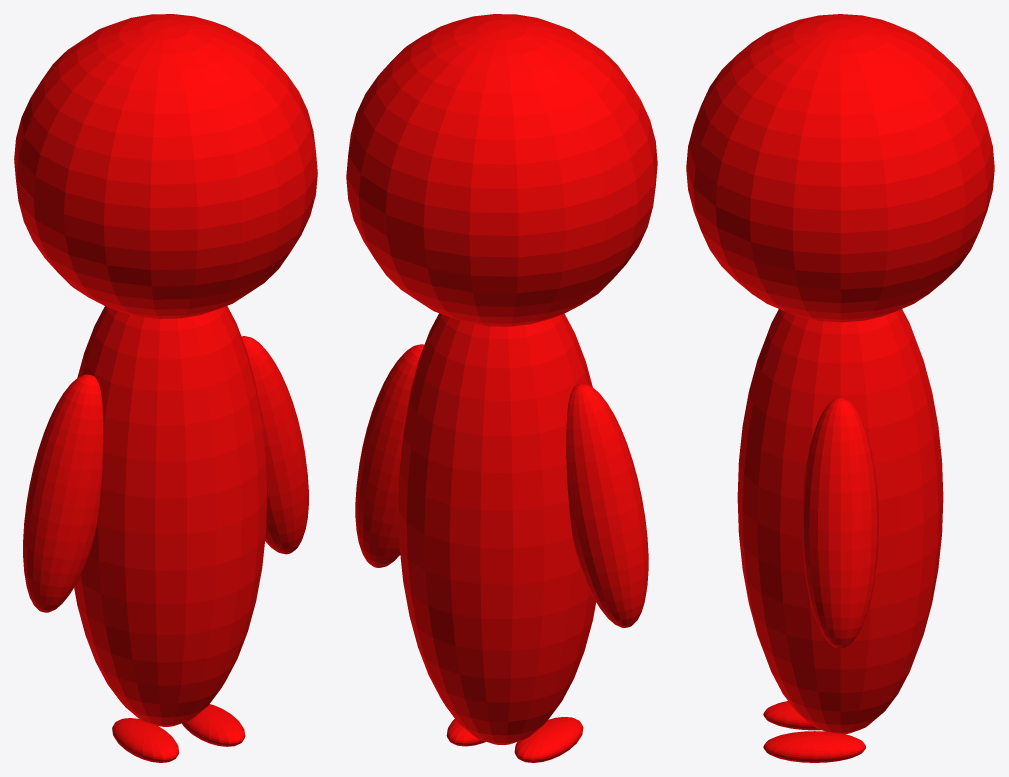
The model's file is little_guy.fbx.
3 renders of one model, left to right at view 1: azimuth 30°, elevation 25°; view 2: azimuth 150°, elevation 25°; view 3: azimuth 270°, elevation 25°, orthographic. The views are drawn at different scales.
Parts seen in each view (by area): view 1: LittleGuy; view 2: LittleGuy; view 3: LittleGuy.
Boxes of the visible parts, x1=… form: LittleGuy: x1=14, y1=14, x2=317, y2=762; LittleGuy: x1=346, y1=14, x2=657, y2=762; LittleGuy: x1=686, y1=14, x2=994, y2=762.
Size of the model in its own units: 126 by 306 by 120.
